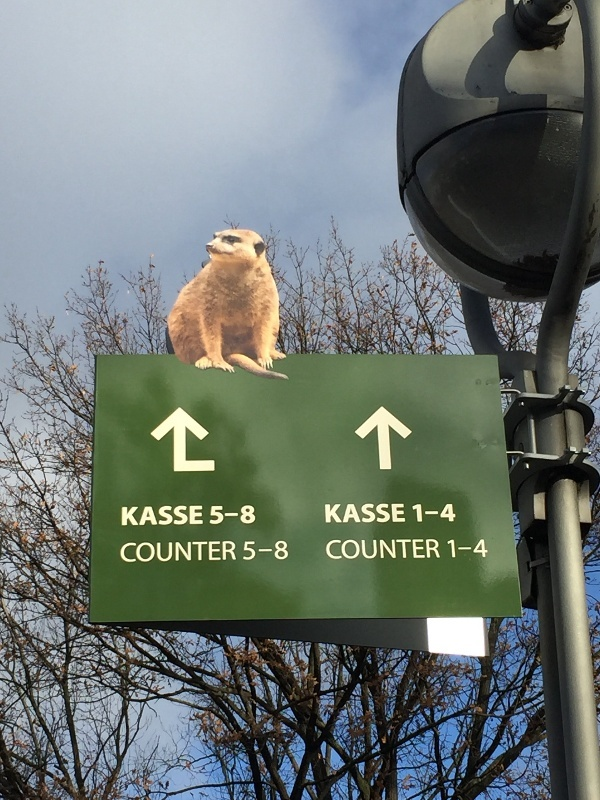text: (337, 502, 352, 524), (353, 502, 368, 524), (369, 502, 384, 524), (385, 502, 400, 524), (129, 541, 144, 563), (145, 541, 160, 563), (161, 541, 176, 563), (177, 541, 192, 563), (193, 541, 208, 563), (209, 541, 224, 563), (417, 503, 432, 524), (433, 503, 448, 524), (449, 538, 464, 559), (465, 538, 480, 559), (225, 505, 240, 526), (241, 505, 256, 526), (337, 539, 352, 559), (353, 539, 368, 559), (369, 539, 384, 559), (385, 539, 400, 559), (401, 539, 416, 559), (417, 539, 432, 559), (129, 506, 144, 526), (145, 506, 160, 526), (161, 506, 176, 526), (177, 506, 192, 526), (257, 541, 272, 561), (273, 541, 288, 561), (225, 541, 237, 563), (212, 505, 224, 526), (325, 502, 336, 524), (245, 541, 256, 561), (326, 539, 336, 559), (193, 506, 203, 526), (121, 541, 128, 563), (449, 503, 456, 524), (481, 538, 488, 559), (433, 539, 440, 559), (122, 506, 128, 526), (401, 502, 406, 524), (412, 503, 416, 524), (446, 538, 448, 559)
